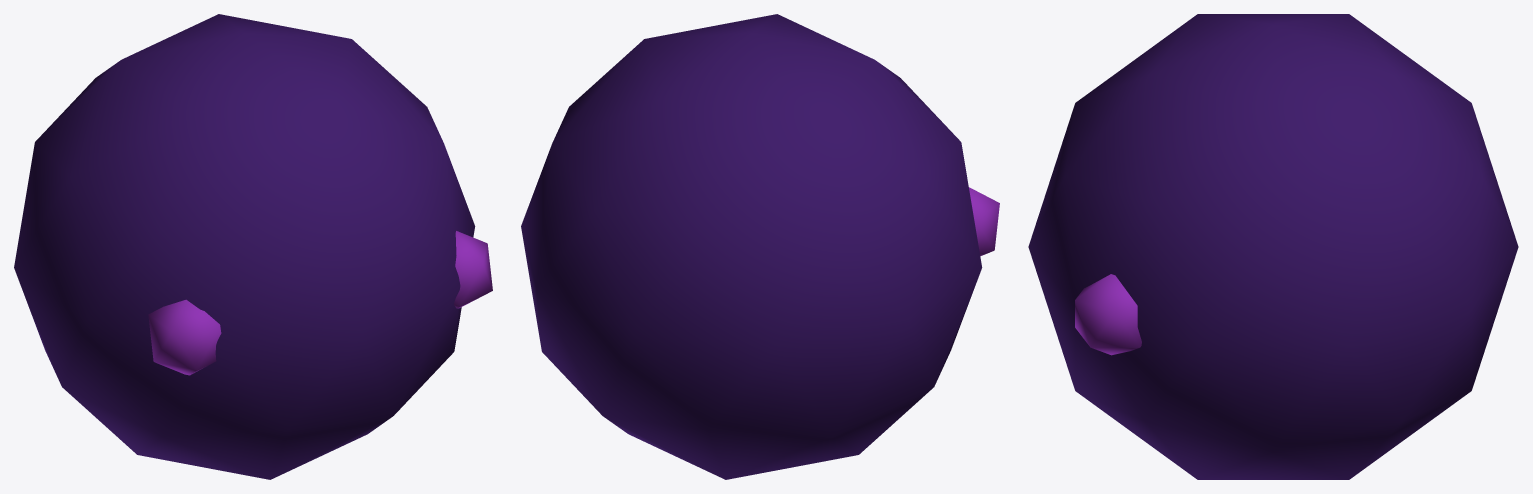
The model's file is boss_serpent_segA.glb.
The picture shows the model from 3 angles, left to right: view 1: azimuth 30°, elevation 25°; view 2: azimuth 150°, elevation 25°; view 3: azimuth 270°, elevation 25°; orthographic projection. The views are drawn at different scales.
Parts seen in each view (by area): view 1: Icosphere; view 2: Icosphere; view 3: Icosphere.
Boxes of the visible parts, x1=… form: Icosphere: x1=14, y1=14, x2=492, y2=479; Icosphere: x1=521, y1=14, x2=999, y2=479; Icosphere: x1=1028, y1=14, x2=1518, y2=479.
Bounding box in the file's own units: 0.5897 × 0.62 × 0.62.
